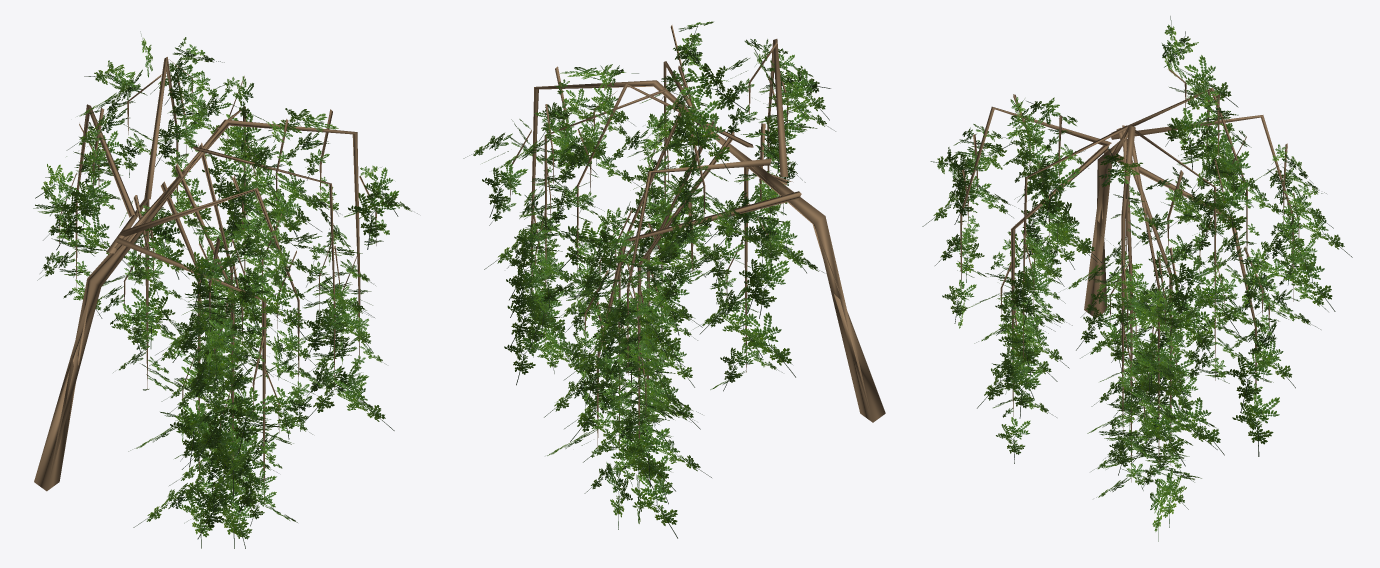
File: willow-lod2.glb
The picture shows the model from 3 angles, left to right: view 1: azimuth 30°, elevation 25°; view 2: azimuth 150°, elevation 25°; view 3: azimuth 270°, elevation 25°; orthographic projection. The views are drawn at different scales.
Visible parts, largest first — view 1: leaf cards, branches; view 2: leaf cards, branches; view 3: leaf cards, branches.
Part boxes in pixels (<box>): leaf cards: <box>33,31,417,548</box>; branches: <box>34,57,376,503</box>; leaf cards: <box>463,21,835,538</box>; branches: <box>510,25,885,457</box>; leaf cards: <box>922,16,1352,541</box>; branches: <box>960,68,1299,482</box>.
Size of the model in its own units: 7.2 by 9.26 by 7.69.
2 materials, 1 textured.
